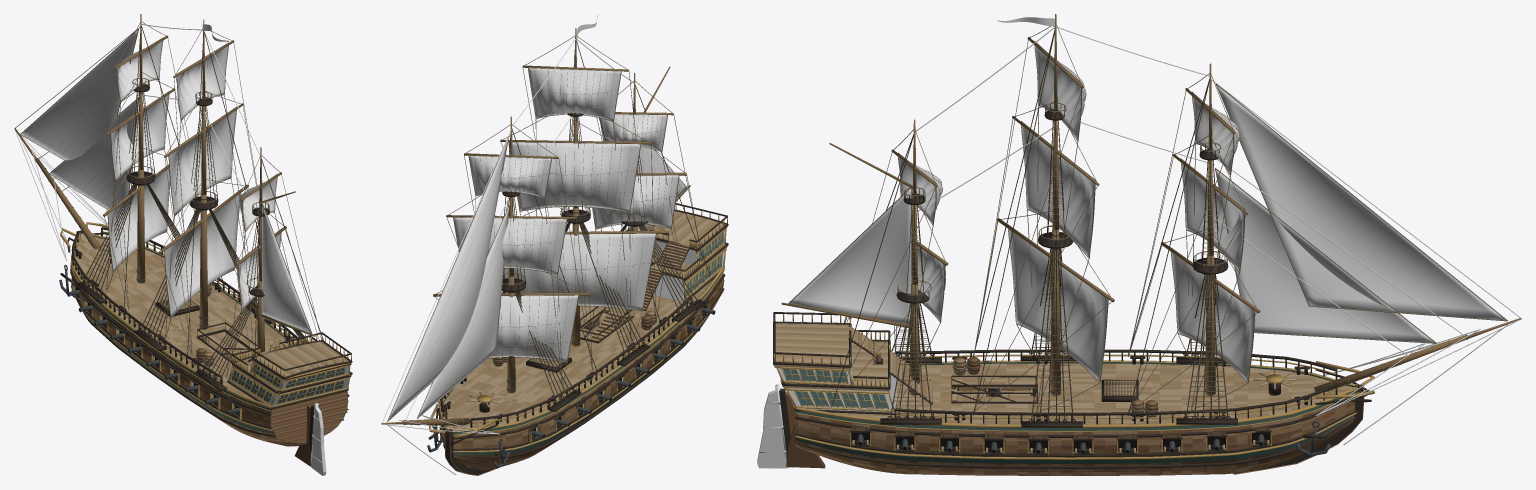
Rendered from reference_frigate_roblox.fbx.
3 renders of one model, left to right at view 1: azimuth 30°, elevation 25°; view 2: azimuth 150°, elevation 25°; view 3: azimuth 270°, elevation 25°, orthographic. The views are drawn at different scales.
Parts seen in each view (by area): view 1: Frigate_Main_Deck_Planks, Frigate_Flying_Jib, Frigate_Mainmast_Shrouds_Ratlines_And_Running_Rig, Frigate_Mainmast_Sail_1, Frigate_Stern_Gallery_Windows_And_Mouldings, Frigate_Foremast_Shrouds_Ratlines_And_Running_Rig, Frigate_Mainmast_Sail_2, Frigate_Hull_Planking_Chunk01, Frigate_Inner_Jib, Frigate_Wales_And_Gold_Trim, Frigate_Mainmast_Spars_And_Tops, Frigate_Foremast_Sail_1 (+24 smaller); view 2: Frigate_Main_Deck_Planks, Frigate_Mainmast_Sail_1, Frigate_Flying_Jib, Frigate_Mainmast_Sail_2, Frigate_Hull_Planking_Chunk01, Frigate_Foremast_Sail_1, Frigate_Inner_Jib, Frigate_Wales_And_Gold_Trim, Frigate_Mainmast_Sail_3, Frigate_Foremast_Sail_2, Frigate_Mainmast_Shrouds_Ratlines_And_Running_Rig, Frigate_Mizzenmast_Sail_1 (+31 smaller); view 3: Frigate_Flying_Jib, Frigate_Hull_Planking_Chunk02, Frigate_Main_Deck_Planks, Frigate_Inner_Jib, Frigate_Wales_And_Gold_Trim, Frigate_Mizzen_Gaff_Sail, Frigate_Mainmast_Shrouds_Ratlines_And_Running_Rig, Frigate_Mainmast_Sail_1, Frigate_Bulwarks_And_Railings, Frigate_Foremast_Shrouds_Ratlines_And_Running_Rig, Frigate_Foremast_Sail_1, Frigate_Mainmast_Sail_2 (+25 smaller).
Part boxes in pixels (<box>): Frigate_Main_Deck_Planks: <box>74,234,292,399</box>; Frigate_Flying_Jib: <box>21,30,137,160</box>; Frigate_Mainmast_Shrouds_Ratlines_And_Running_Rig: <box>138,28,286,355</box>; Frigate_Mainmast_Sail_1: <box>165,193,240,317</box>; Frigate_Stern_Gallery_Windows_And_Mouldings: <box>227,340,352,409</box>; Frigate_Foremast_Shrouds_Ratlines_And_Running_Rig: <box>79,22,224,309</box>; Frigate_Mainmast_Sail_2: <box>169,110,236,215</box>; Frigate_Hull_Planking_Chunk01: <box>71,234,306,446</box>; Frigate_Inner_Jib: <box>50,99,138,209</box>; Frigate_Wales_And_Gold_Trim: <box>70,232,349,437</box>; Frigate_Mainmast_Spars_And_Tops: <box>134,19,273,350</box>; Frigate_Foremast_Sail_1: <box>108,168,170,271</box>; Frigate_Main_Deck_Planks: <box>443,280,712,429</box>; Frigate_Mainmast_Sail_1: <box>503,233,655,310</box>; Frigate_Flying_Jib: <box>388,137,508,420</box>; Frigate_Mainmast_Sail_2: <box>509,142,640,212</box>; Frigate_Hull_Planking_Chunk01: <box>453,271,723,469</box>; Frigate_Foremast_Sail_1: <box>489,295,578,361</box>; Frigate_Inner_Jib: <box>418,207,509,417</box>; Frigate_Wales_And_Gold_Trim: <box>438,267,725,458</box>; Frigate_Mainmast_Sail_3: <box>528,68,620,120</box>; Frigate_Foremast_Sail_2: <box>454,217,566,273</box>; Frigate_Mainmast_Shrouds_Ratlines_And_Running_Rig: <box>500,36,668,360</box>; Frigate_Mizzenmast_Sail_1: <box>593,175,678,228</box>; Frigate_Flying_Jib: <box>1217,85,1505,320</box>; Frigate_Hull_Planking_Chunk02: <box>795,392,1354,475</box>; Frigate_Main_Deck_Planks: <box>833,363,1353,424</box>; Frigate_Inner_Jib: <box>1216,169,1434,342</box>; Frigate_Wales_And_Gold_Trim: <box>795,360,1357,468</box>; Frigate_Mizzen_Gaff_Sail: <box>790,188,911,323</box>; Frigate_Mainmast_Shrouds_Ratlines_And_Running_Rig: <box>973,24,1113,424</box>; Frigate_Mainmast_Sail_1: <box>1008,229,1107,381</box>; Frigate_Bulwarks_And_Railings: <box>773,312,1337,424</box>; Frigate_Foremast_Shrouds_Ratlines_And_Running_Rig: <box>1128,73,1258,421</box>; Frigate_Foremast_Sail_1: <box>1171,252,1254,381</box>; Frigate_Mainmast_Sail_2: <box>1021,125,1094,257</box>.
Size of the model in its own units: 1411 by 3710 by 5582.
